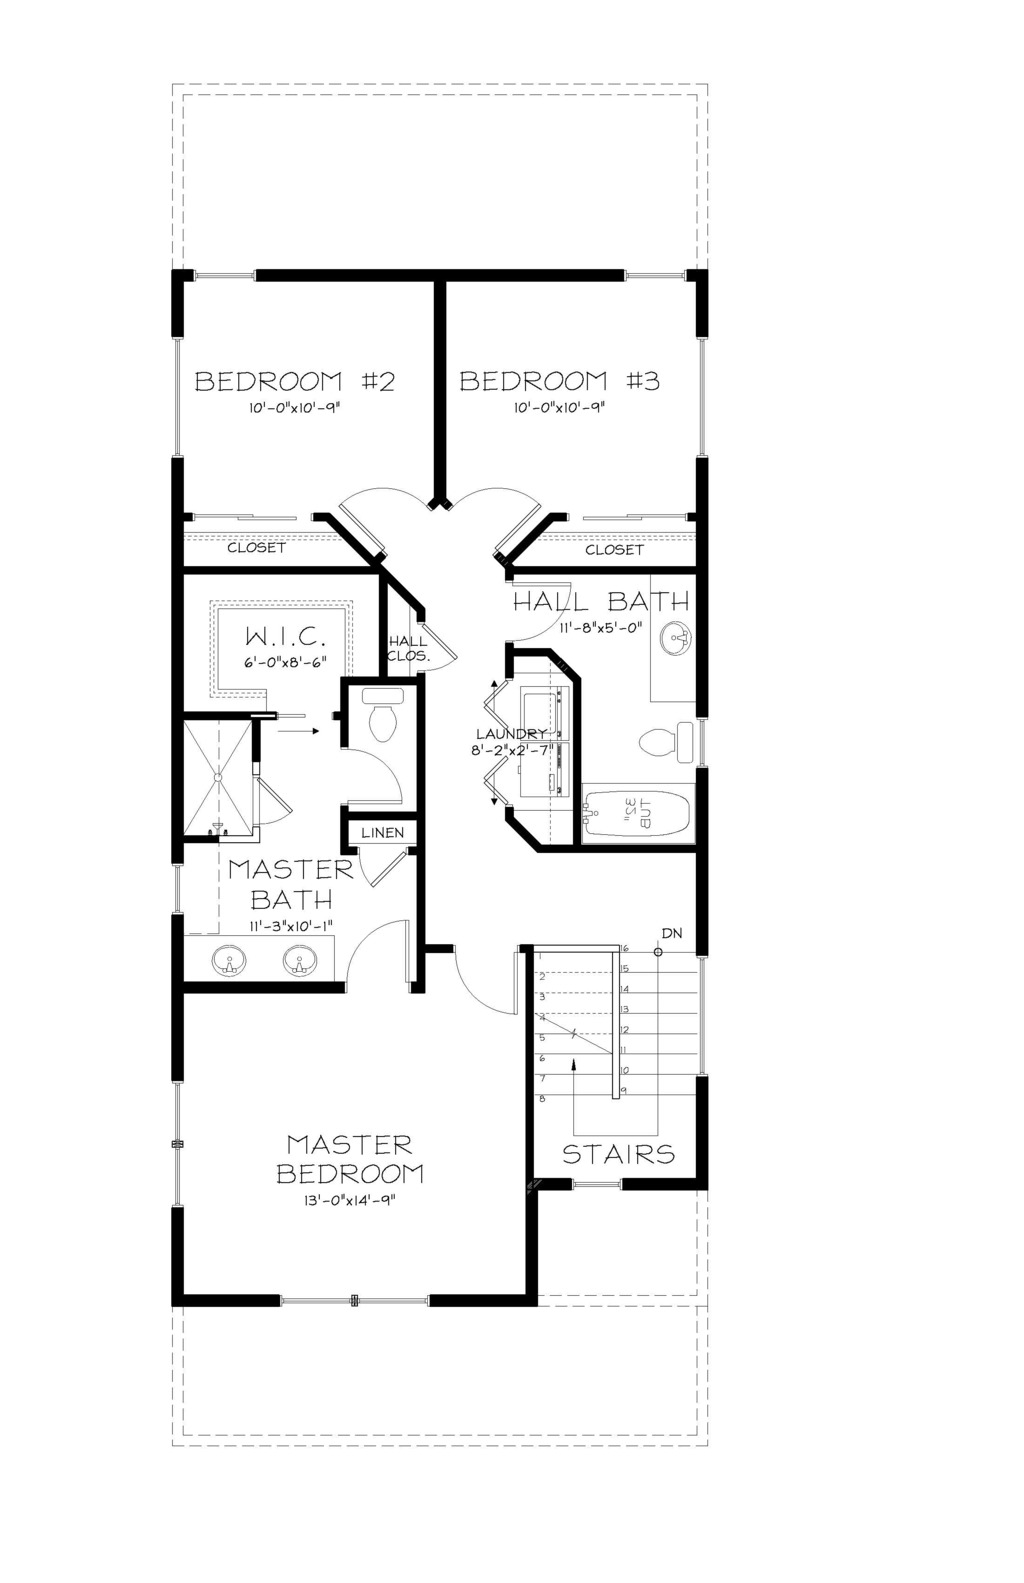door: (447, 468, 556, 565), (332, 892, 426, 992), (342, 468, 439, 560), (442, 943, 529, 1026), (325, 736, 412, 815), (500, 573, 578, 651), (396, 612, 455, 682), (329, 841, 412, 892), (249, 777, 300, 836)
large_sink: (622, 712, 703, 775), (354, 677, 402, 743)
small_sink: (190, 931, 327, 995), (642, 582, 693, 707)
stairs: (542, 938, 698, 1163)
tub: (560, 775, 698, 843)
window: (164, 1076, 198, 1214), (283, 1285, 427, 1316), (161, 853, 203, 931)
